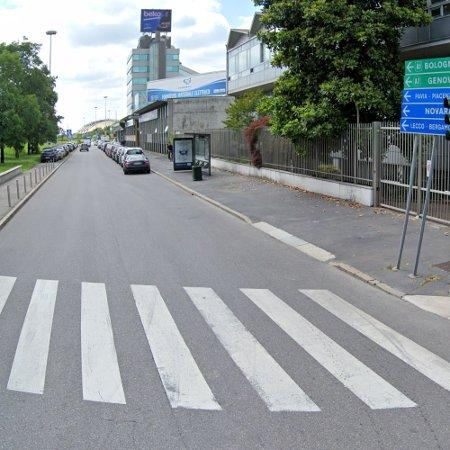crosswalks: (0, 275, 450, 414)
